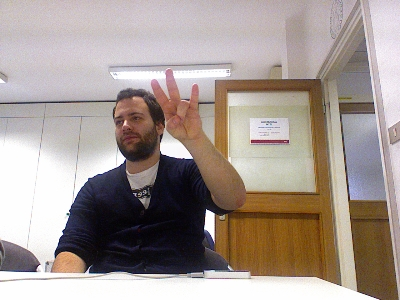观音: (149, 67, 203, 140)
